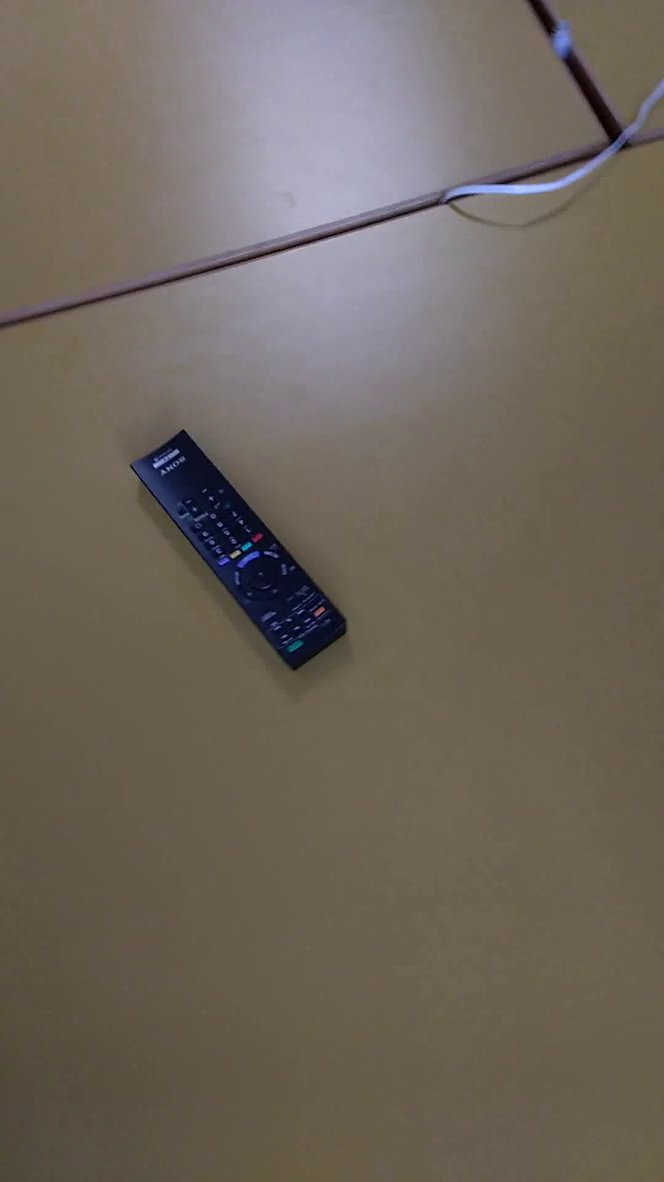remote: (116, 416, 360, 689)
